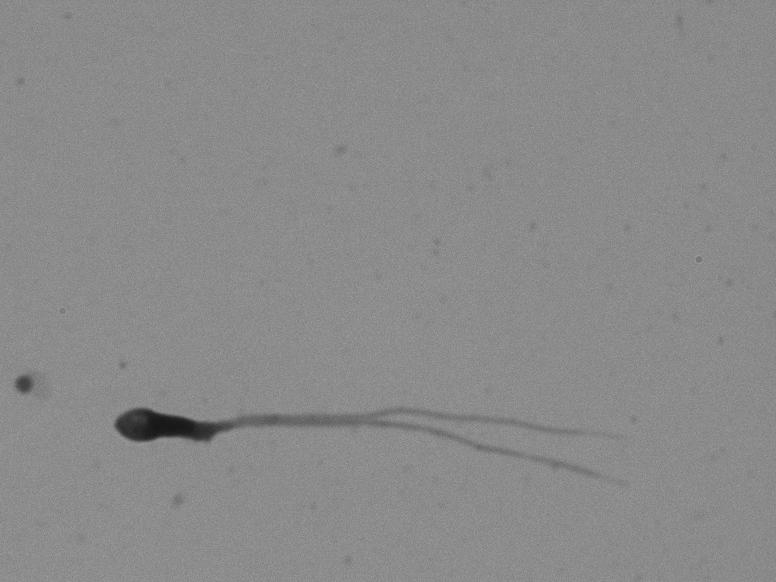Abnormal: (90, 378, 677, 489)
